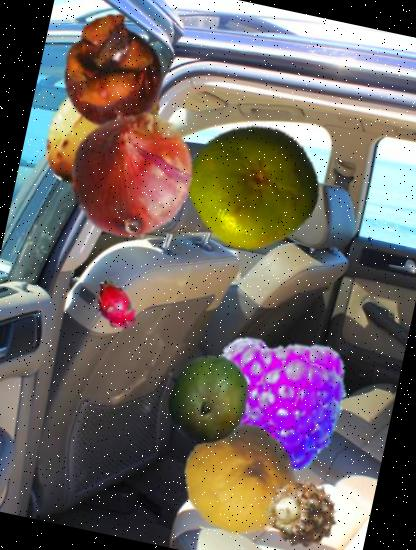Carambula: (19, 38, 190, 210)
Lemon: (172, 412, 308, 548)
Mango: (152, 345, 260, 453)
Mangostan: (42, 3, 182, 142)
Onion: (51, 94, 212, 254)
Pineapple: (256, 467, 347, 550)
Pitahaya: (81, 275, 146, 339)
Pomelo: (173, 109, 330, 266)
Raspberry: (193, 323, 358, 488)
